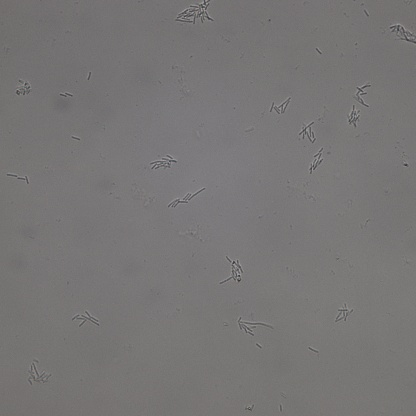R(colony): (168, 188, 206, 207), (220, 255, 243, 286), (237, 317, 274, 336), (28, 359, 51, 386), (389, 24, 416, 45), (71, 310, 100, 328), (151, 154, 177, 171), (308, 149, 324, 174), (355, 82, 371, 107), (299, 121, 317, 142), (270, 98, 291, 115), (347, 104, 361, 128), (16, 79, 32, 96)
